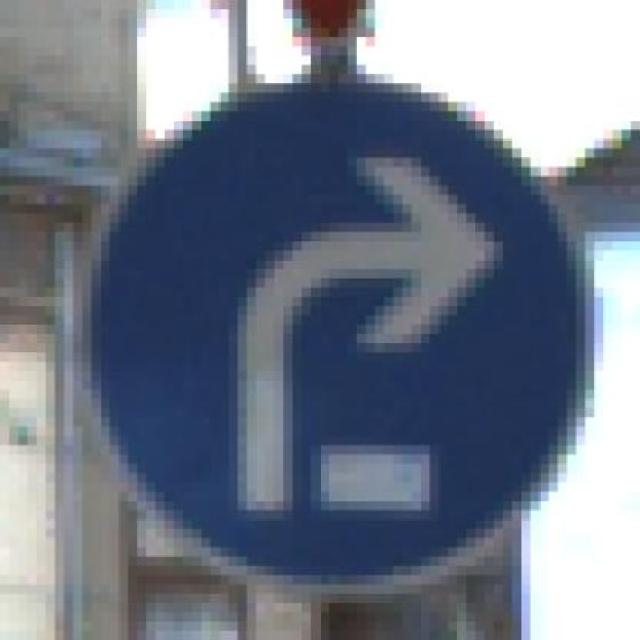Turn right ahead: (55, 74, 613, 603)
